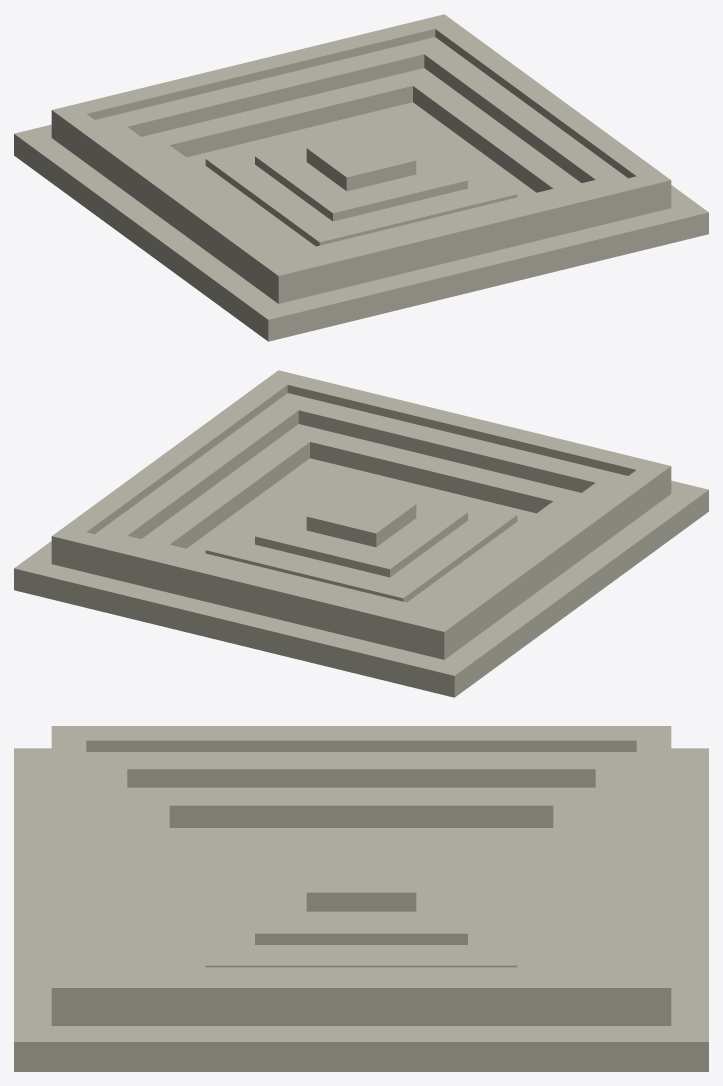
The model's file is SM_top_vent.fbx.
3 renders of one model, top to bottom at view 1: azimuth 30°, elevation 25°; view 2: azimuth 150°, elevation 25°; view 3: azimuth 270°, elevation 25°, orthographic. The views are drawn at different scales.
Visible parts, largest first — view 1: top_vent; view 2: top_vent; view 3: top_vent.
Boxes of the visible parts, x1=… form: top_vent: x1=14, y1=14, x2=708, y2=341; top_vent: x1=14, y1=370, x2=708, y2=697; top_vent: x1=14, y1=726, x2=708, y2=1071.
Size of the model in its own units: 75 by 8.1 by 75.
